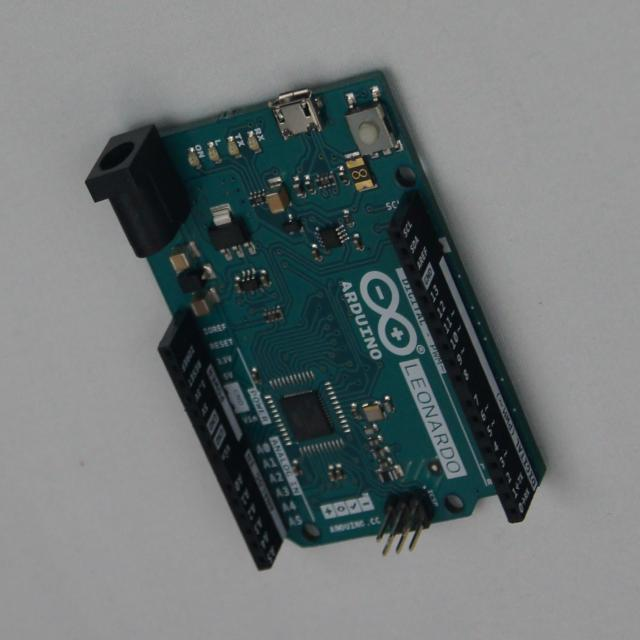Arduino-leonardo: (87, 71, 545, 570)
